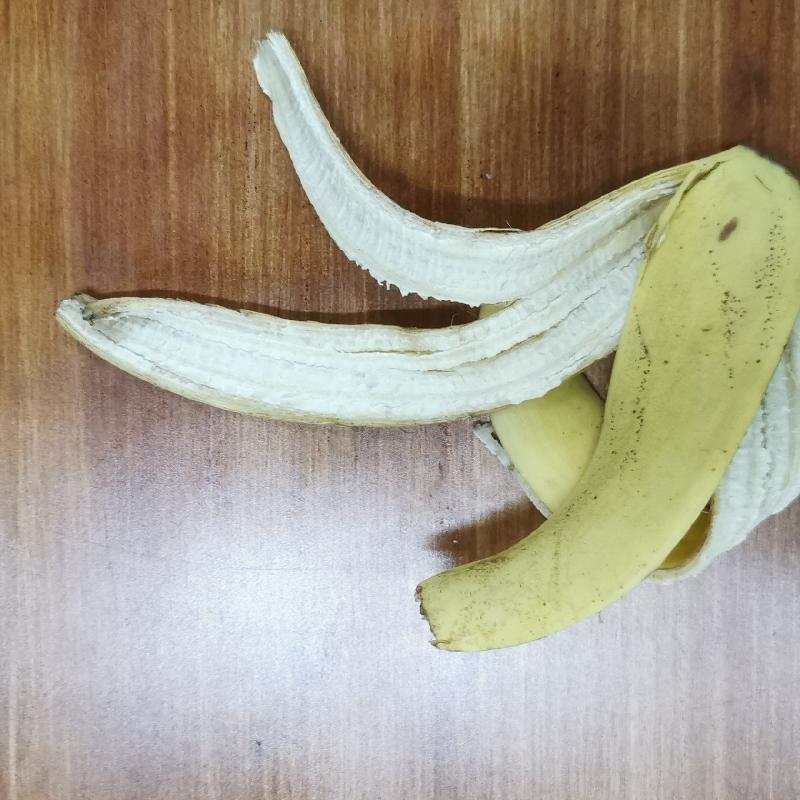bananas: (53, 29, 799, 655)
